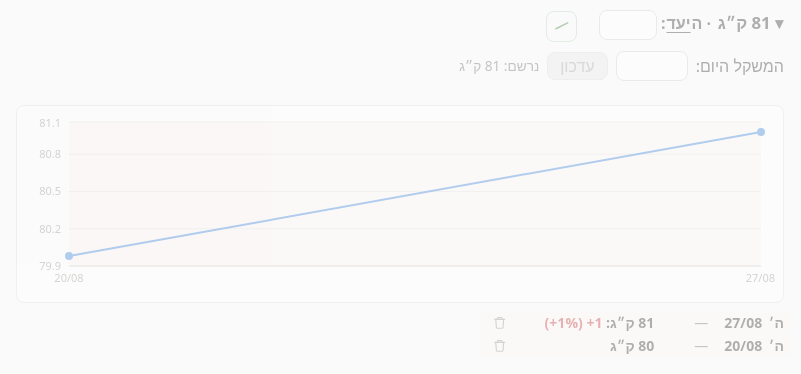
Test: glance › stays with the hand that toggled it
Click the button named "גרף המשקל".
click(562, 26)  # box [546,11,577,42]
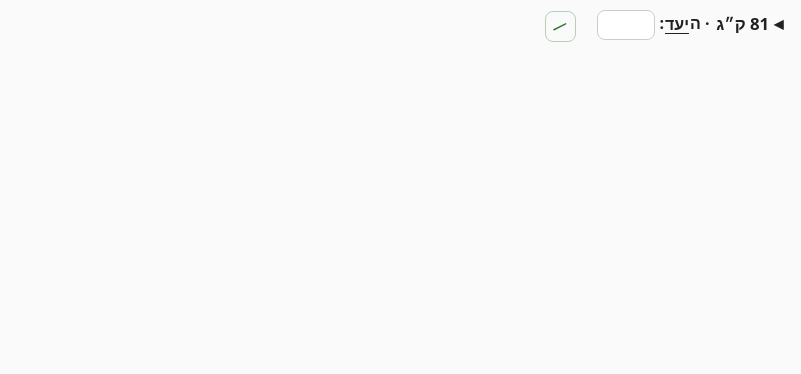
Click the button named "גרף המשקל".
click(560, 27)  # box [545,11,576,42]
Wait 60000 ms
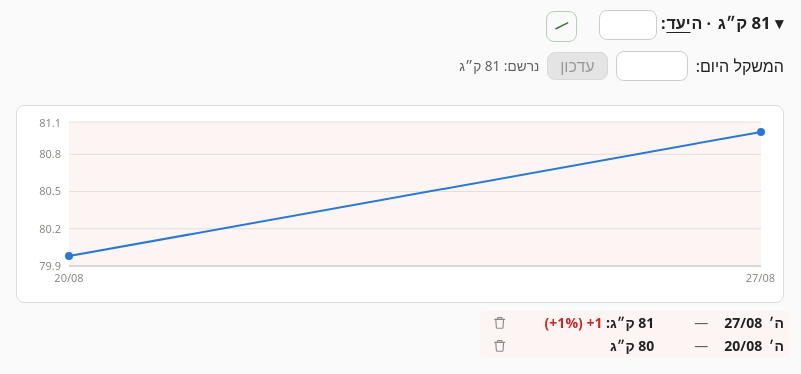
Expected: the number field named "המשקל היום" is shown, [616,51,688,81]
